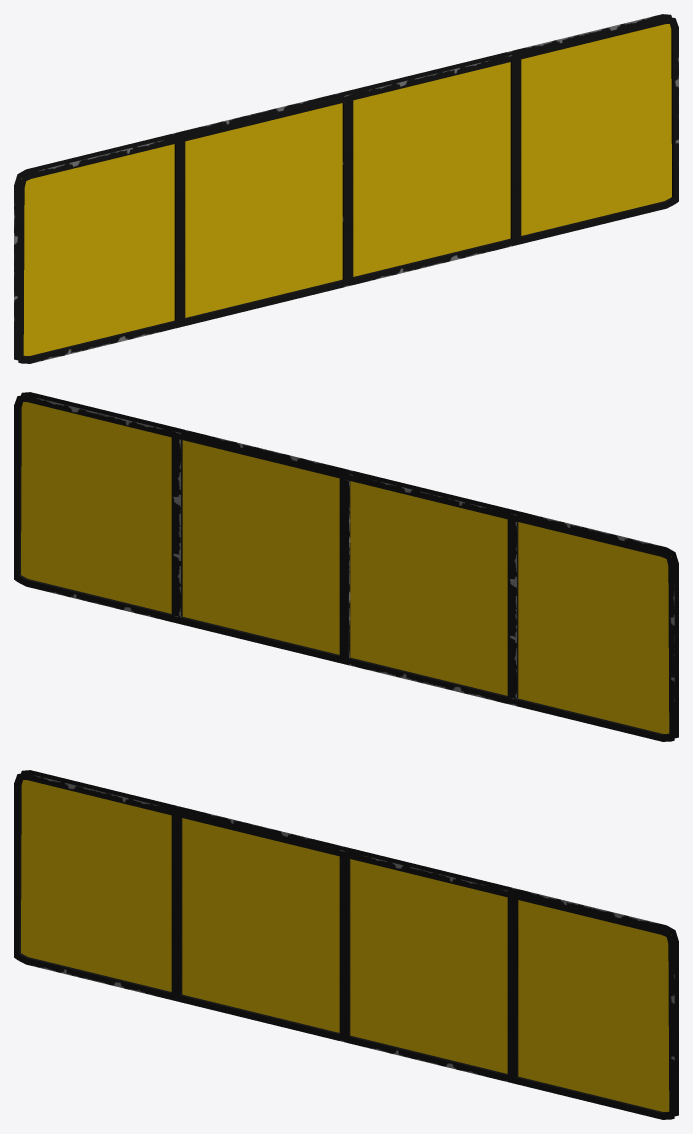
The model's file is window_frames.fbx.
3 views of the same model, one above another, from view 1: azimuth 30°, elevation 25°; view 2: azimuth 150°, elevation 25°; view 3: azimuth 330°, elevation 25° (orthographic).
Visible parts, largest first — view 1: interior_full.002; view 2: interior_full.002; view 3: interior_full.002.
Boxes of the visible parts, x1,y1,x2,y2 form: interior_full.002: [14, 14, 678, 363]; interior_full.002: [14, 392, 678, 741]; interior_full.002: [14, 770, 678, 1119].
Bounding box in the file's own units: 11.8 × 3.27 × 0.1349.
